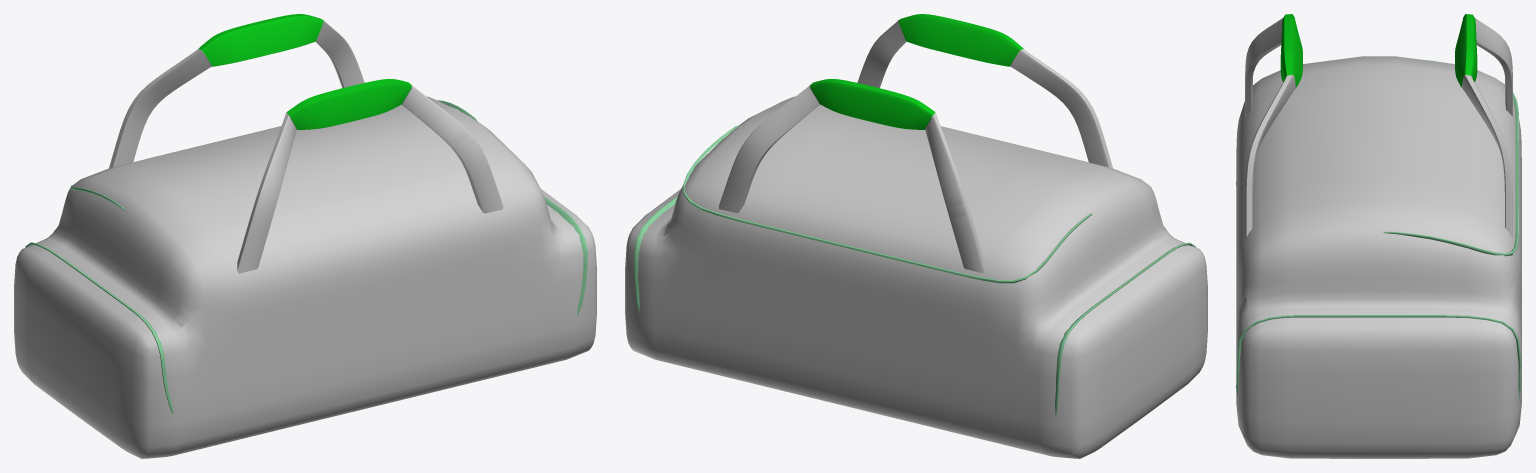
File: MoneyBag.fbx
3 renders of one model, left to right at view 1: azimuth 30°, elevation 25°; view 2: azimuth 150°, elevation 25°; view 3: azimuth 270°, elevation 25°, orthographic.
Visible parts, largest first — view 1: Mesh; view 2: Mesh; view 3: Mesh.
Boxes of the visible parts, x1=… form: Mesh: x1=14, y1=14, x2=596, y2=458; Mesh: x1=625, y1=14, x2=1207, y2=458; Mesh: x1=1236, y1=14, x2=1521, y2=458.
Bounding box in the file's own units: 46.19 × 29.64 × 24.04.
